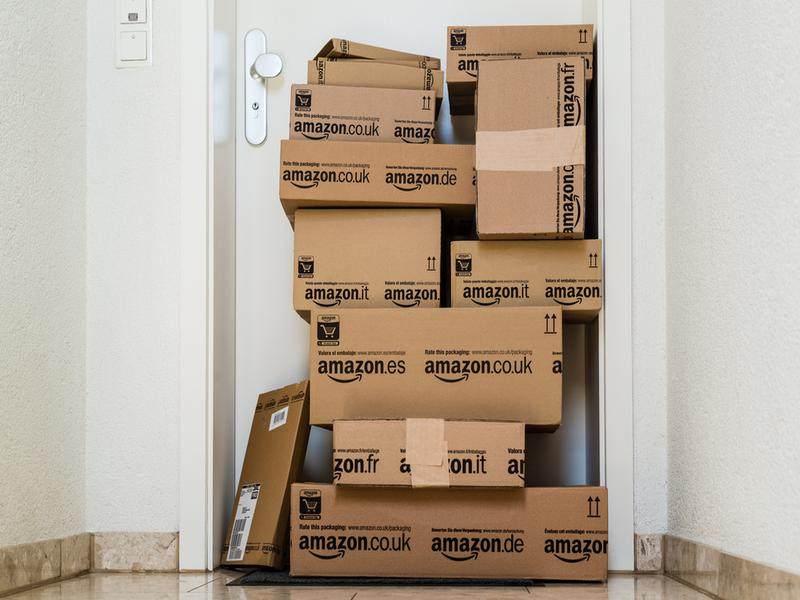package: (284, 479, 612, 585), (303, 304, 569, 433), (471, 54, 589, 240), (217, 374, 312, 576), (289, 202, 444, 316), (274, 135, 479, 217), (326, 418, 531, 492), (447, 231, 610, 320), (284, 81, 440, 148), (303, 53, 447, 90)
